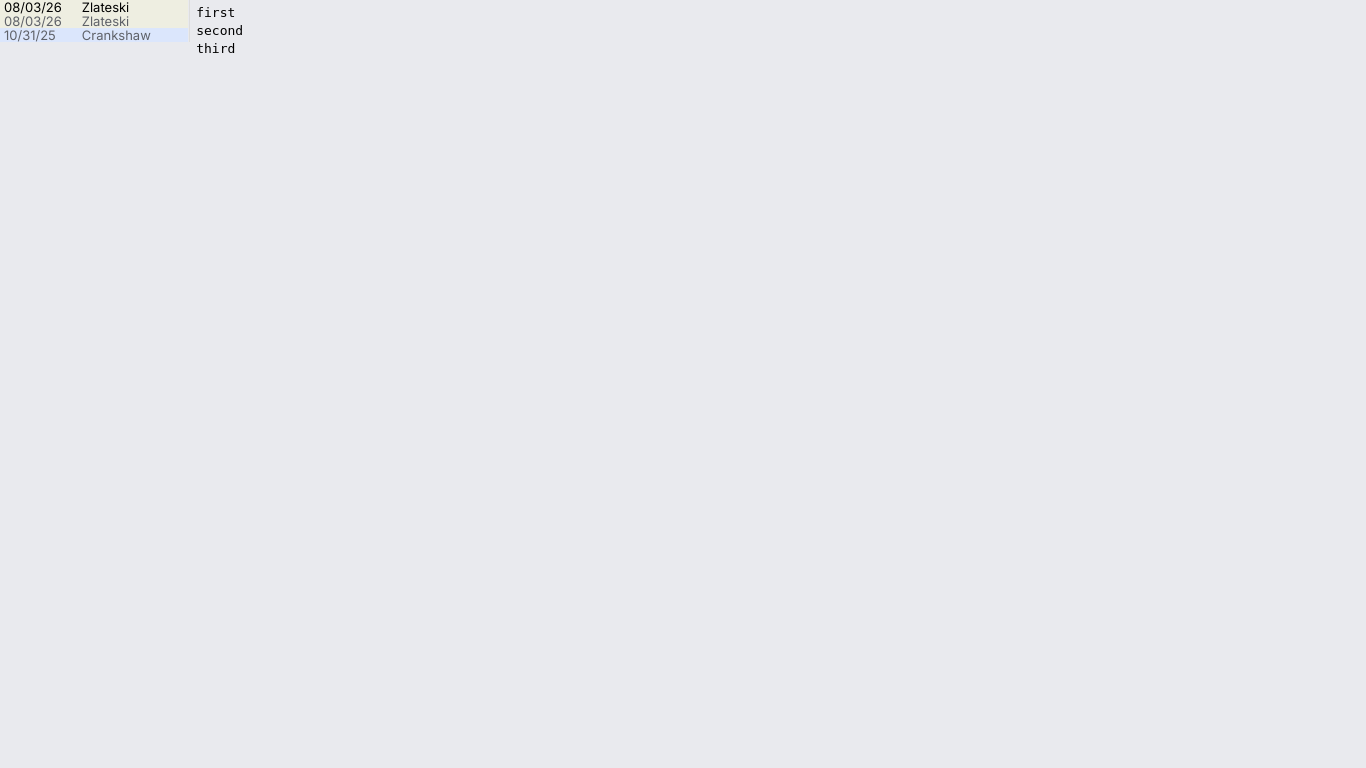
git blame gutter and commit popup › highlights matching commit lines on hover, shows the commit popup, and jumps to Git Log on click
Later steps or results of the test are not shown.
Expected: the element with class "cm-gutterElement" showing "10/31/25 Crankshaw" is shown, [0,28,188,42]
Hover over the 1st element with class "cm-gutterElement" at (94, 7), box [0,0,188,14]
Wait 260 ms
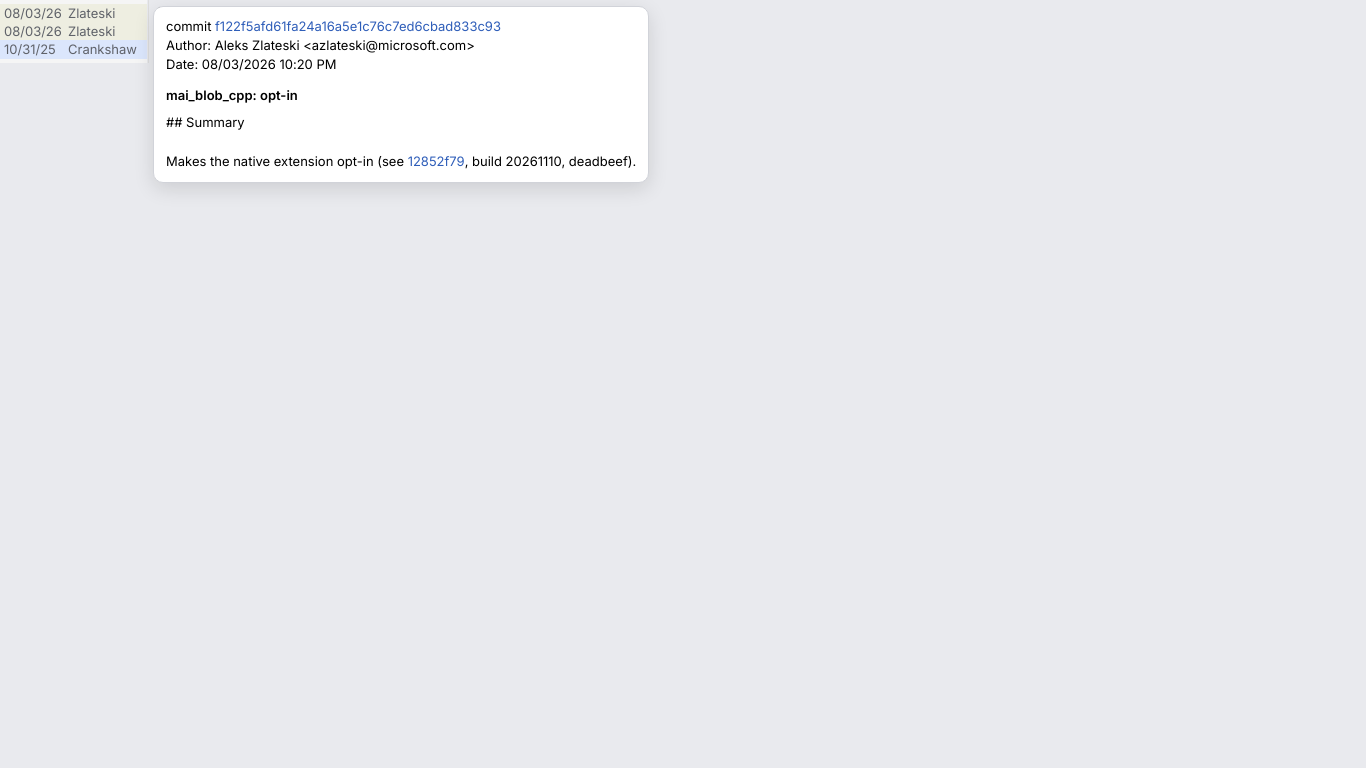
Now the dialog is shown, box [153,6,649,182]
Now the button "f122f5afd61fa24a16a5e1c76c7ed6cbad833c93" is shown, box [215,17,501,36]
Now the button "12852f79" is shown, box [408,152,465,172]
